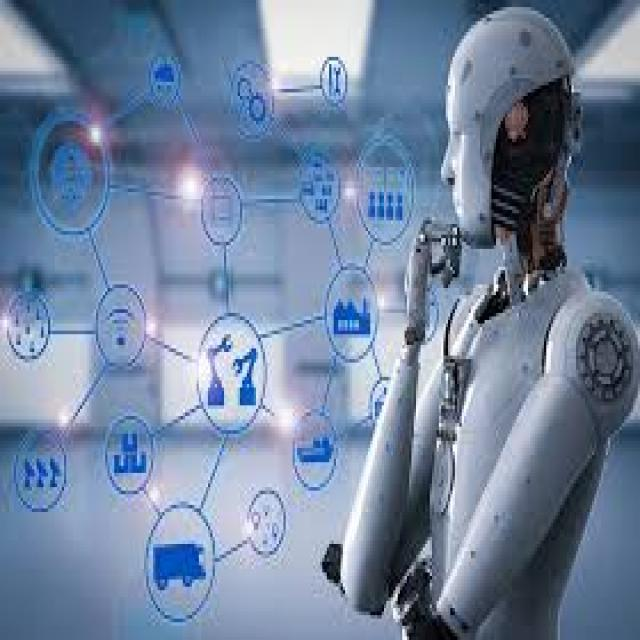humanoid-arm: (323, 213, 464, 610)
